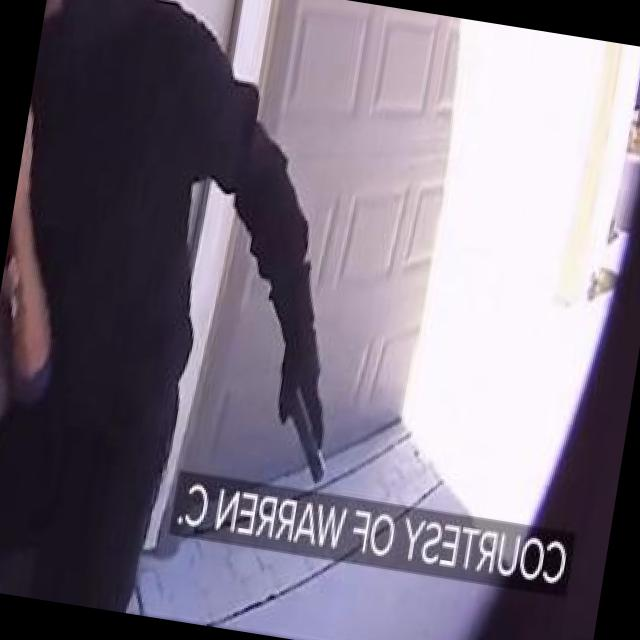Guns: (264, 371, 349, 496)
